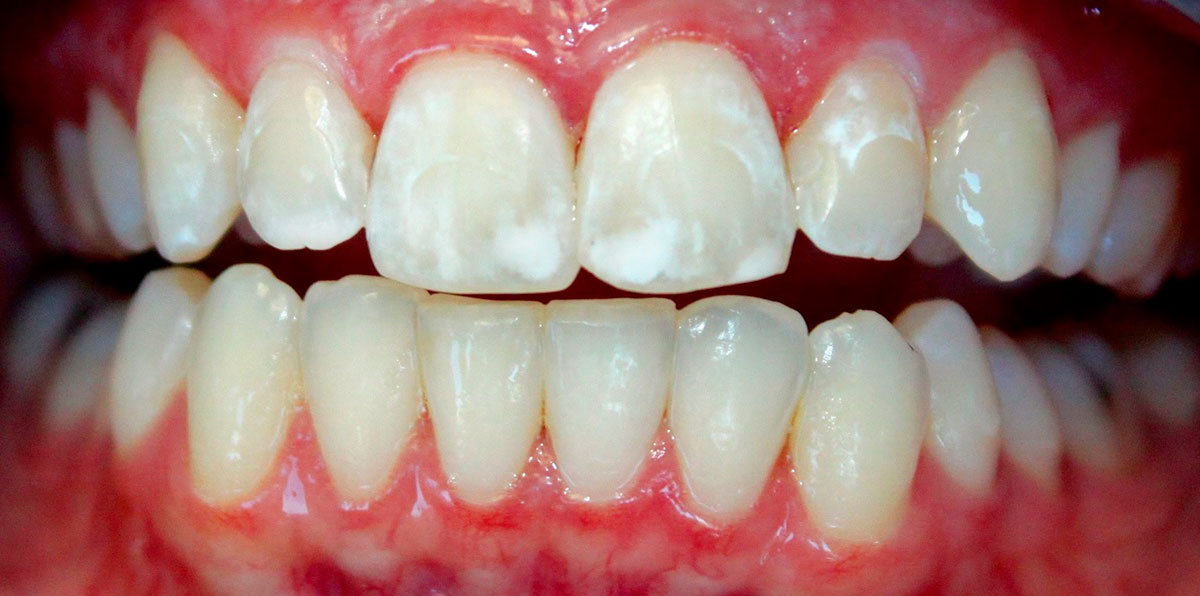LLCI_healthy: (668, 299, 801, 525), (540, 297, 672, 511)
LLC_healthy: (914, 287, 1003, 497)
LLLI_healthy: (795, 307, 921, 551)
LR1BC_healthy: (106, 273, 202, 454)
LRCI_healthy: (415, 297, 544, 526)
LRC_healthy: (179, 269, 304, 525)
LRLI_healthy: (301, 280, 420, 525)
UL1BC_healthy: (1044, 120, 1120, 285)
ULCI_healthy: (576, 41, 787, 289)
ULC_healthy: (920, 43, 1044, 286)
ULLI_healthy: (789, 41, 928, 259)
UR1BC_healthy: (87, 91, 154, 259)
URCI_healthy: (364, 51, 578, 302)
URC_healthy: (128, 32, 245, 262)
URLI_healthy: (241, 55, 366, 254)
